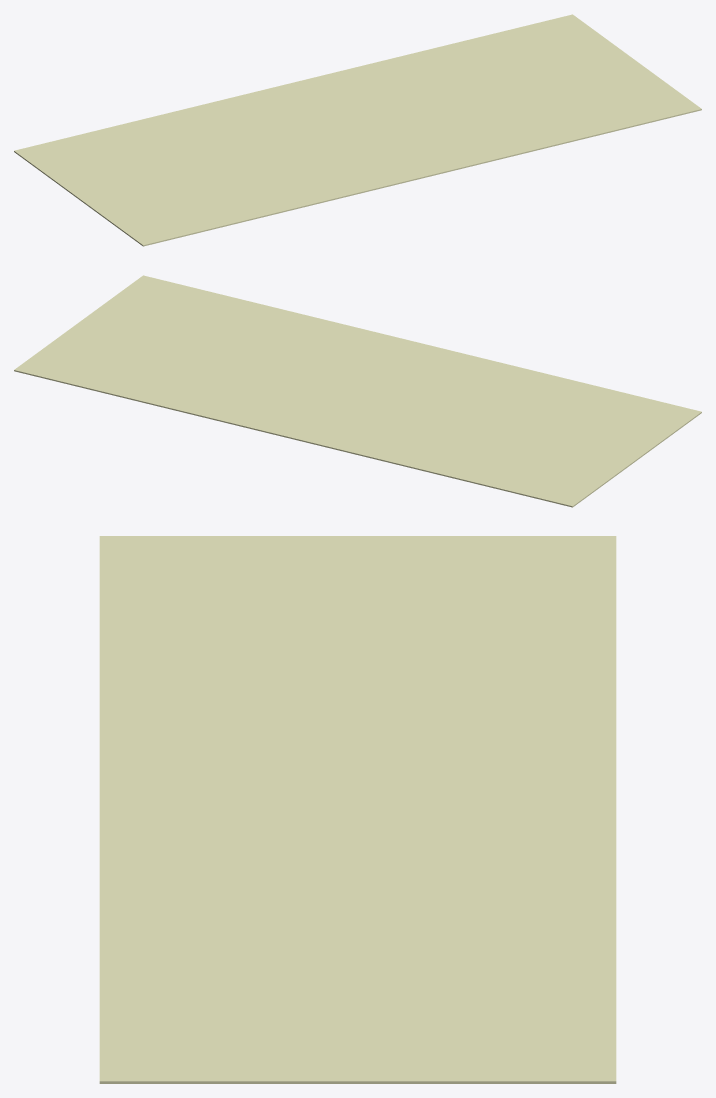
File: school hall fbx.fbx_roof.fbx
3 renders of one model, top to bottom at view 1: azimuth 30°, elevation 25°; view 2: azimuth 150°, elevation 25°; view 3: azimuth 270°, elevation 25°, orthographic. The views are drawn at different scales.
Parts seen in each view (by area): view 1: Cube.001; view 2: Cube.001; view 3: Cube.001.
Part boxes in pixels (bbox=[...]): Cube.001: bbox=[14, 14, 701, 246]; Cube.001: bbox=[14, 275, 701, 507]; Cube.001: bbox=[99, 536, 616, 1083].
Size of the model in its own units: 1242 by 2.7 by 498.
